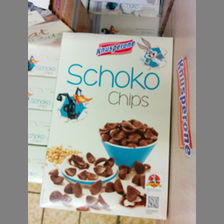cereal: (38, 32, 175, 221)
